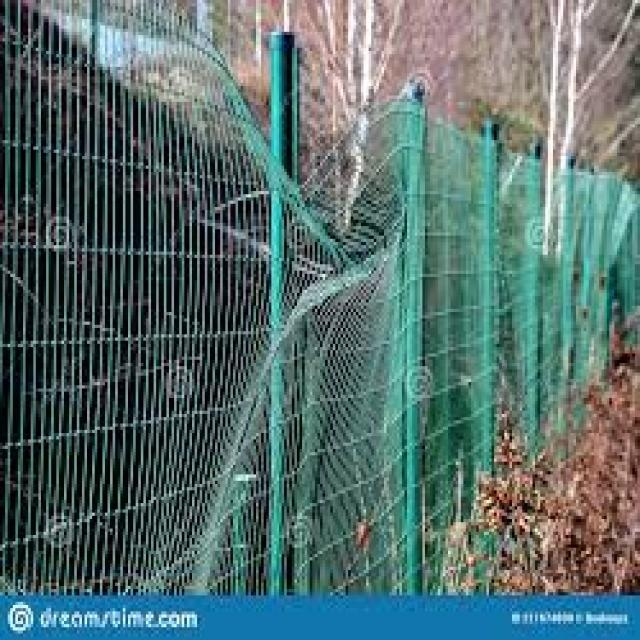fence line: (250, 86, 412, 253)
